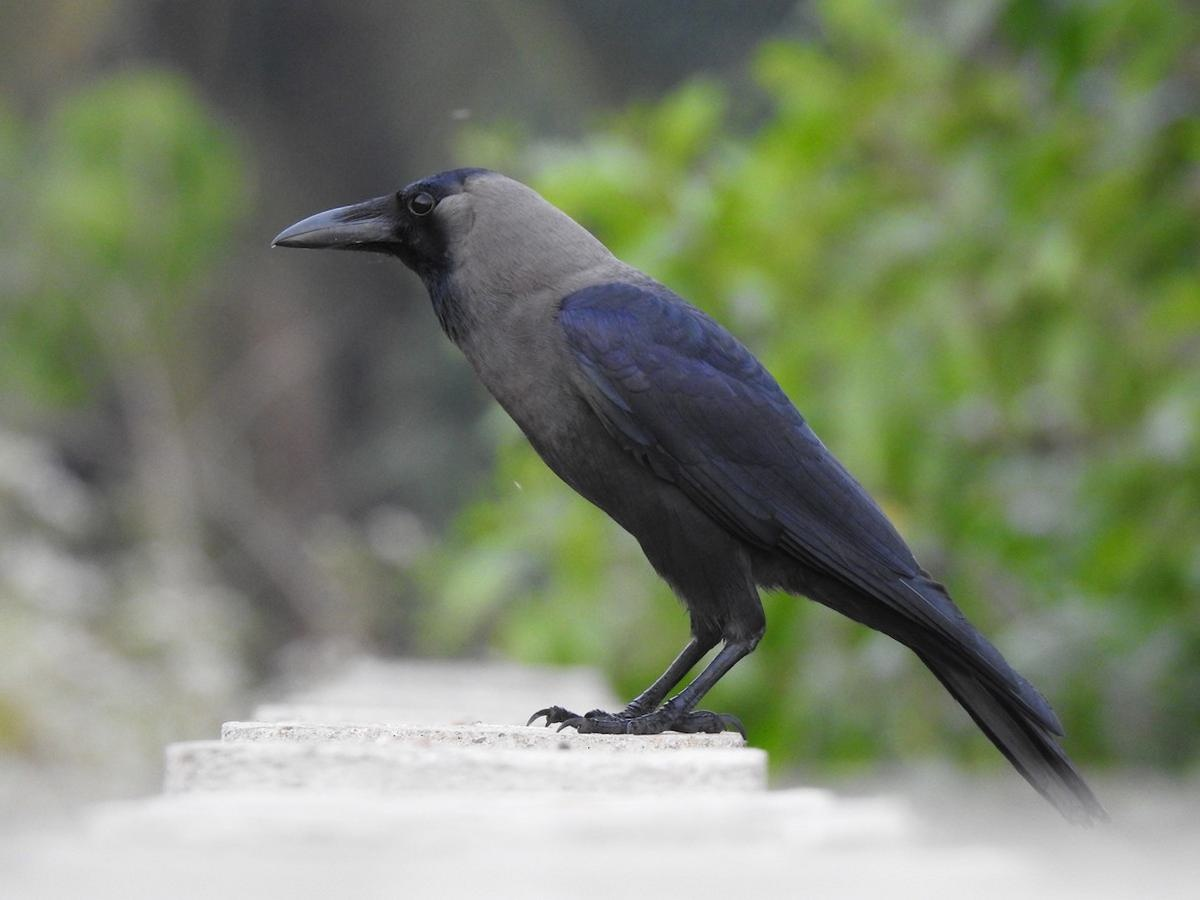crow: (269, 137, 1109, 825)
